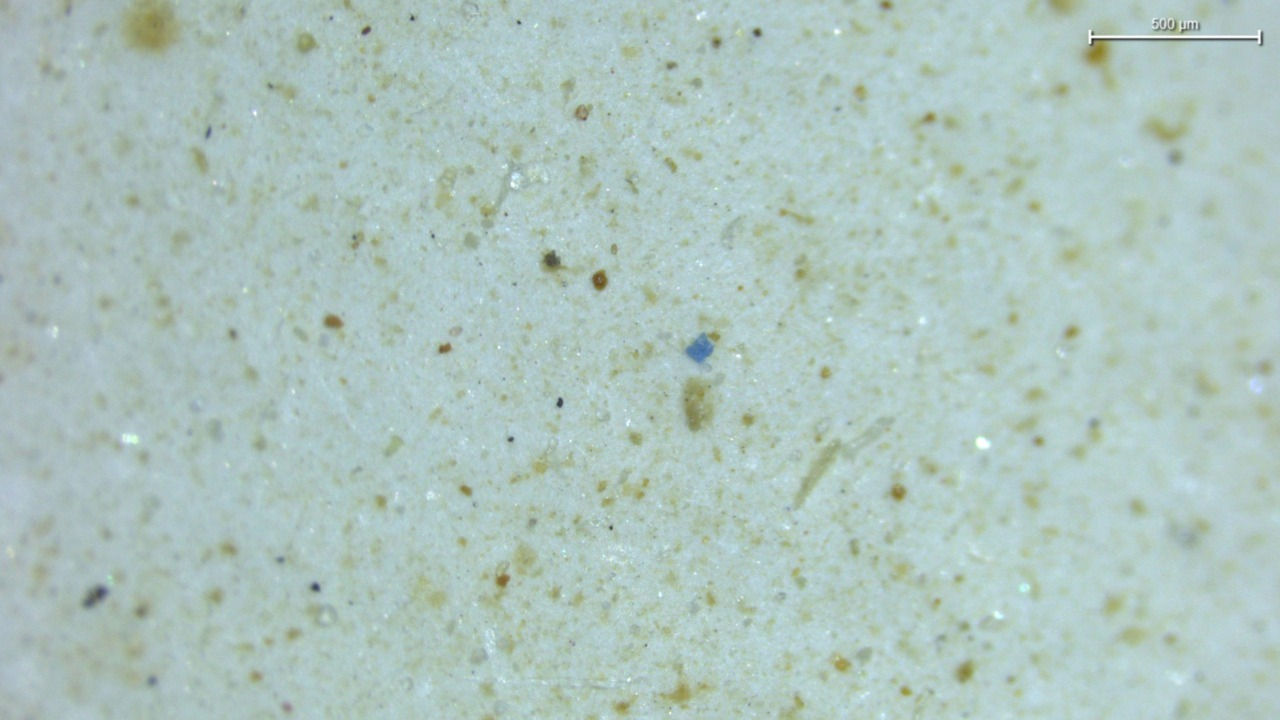microplastic_fragment: (686, 333, 714, 363)
